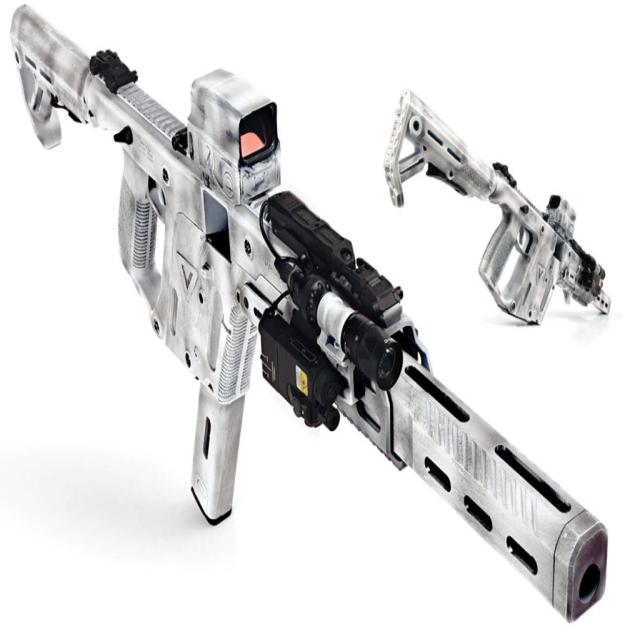SMG: (11, 6, 611, 625), (384, 89, 611, 326)
